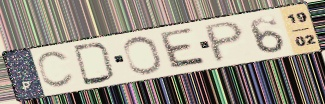6: (247, 14, 287, 55)
C: (35, 49, 77, 90)
D: (71, 41, 117, 87)
E: (158, 26, 210, 71)
O: (121, 35, 166, 76)
P: (202, 19, 246, 65)
